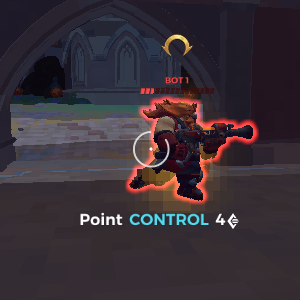model: (140, 95, 224, 204)
